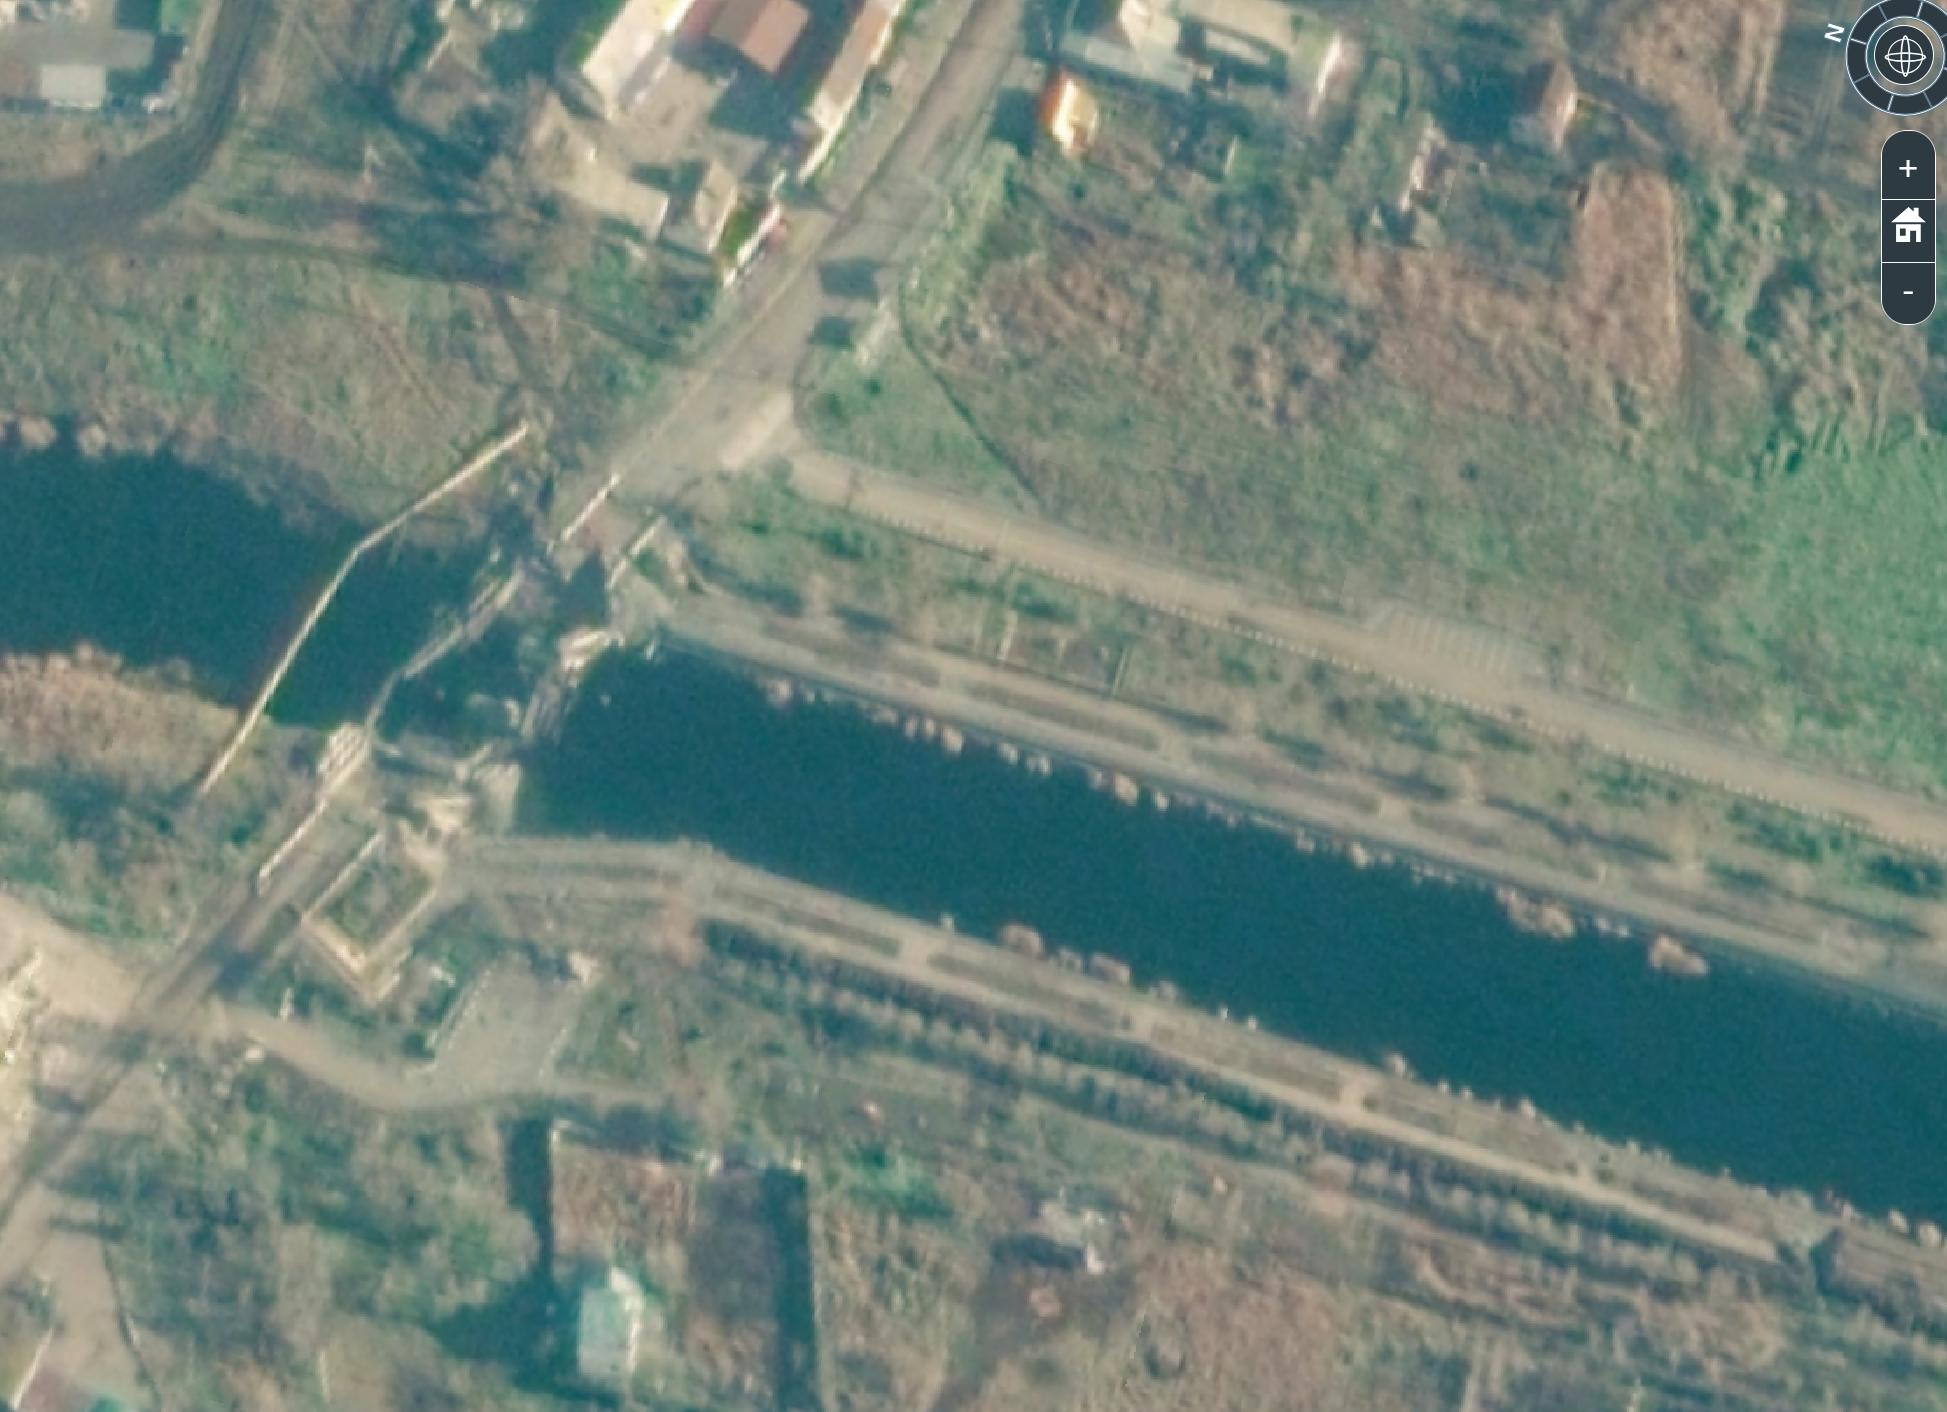demaged-bridge-medium: (323, 398, 679, 933)
